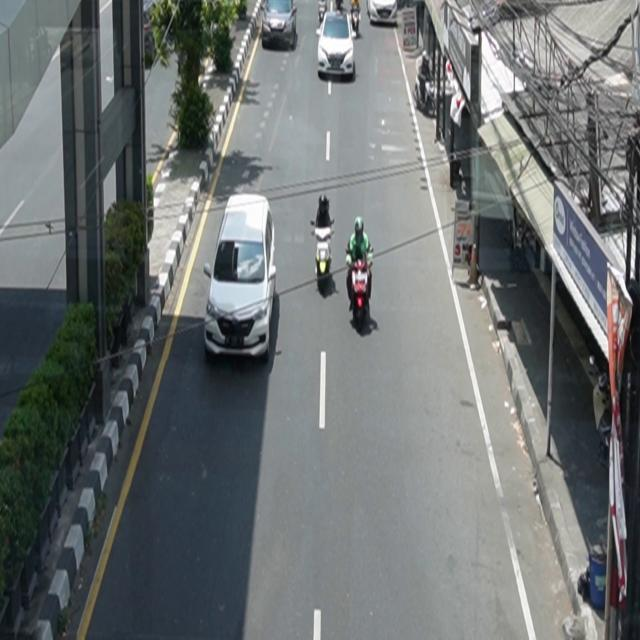car: (204, 194, 277, 361), (317, 10, 355, 81), (262, 1, 298, 51), (367, 1, 398, 26)
